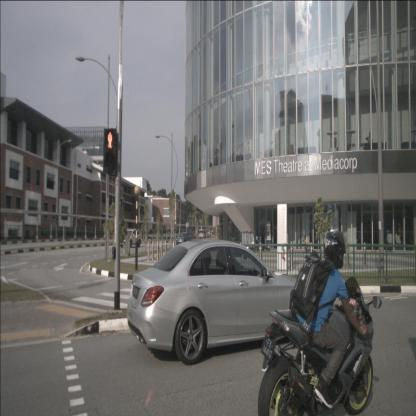vehicle-bicycle: (302, 230, 310, 252)
vehicle-car: (126, 238, 312, 366), (119, 229, 142, 248), (176, 232, 192, 247), (186, 232, 196, 239)
vehicle-motorcycle: (258, 231, 374, 416)
vehicle-truck: (199, 229, 209, 239)
